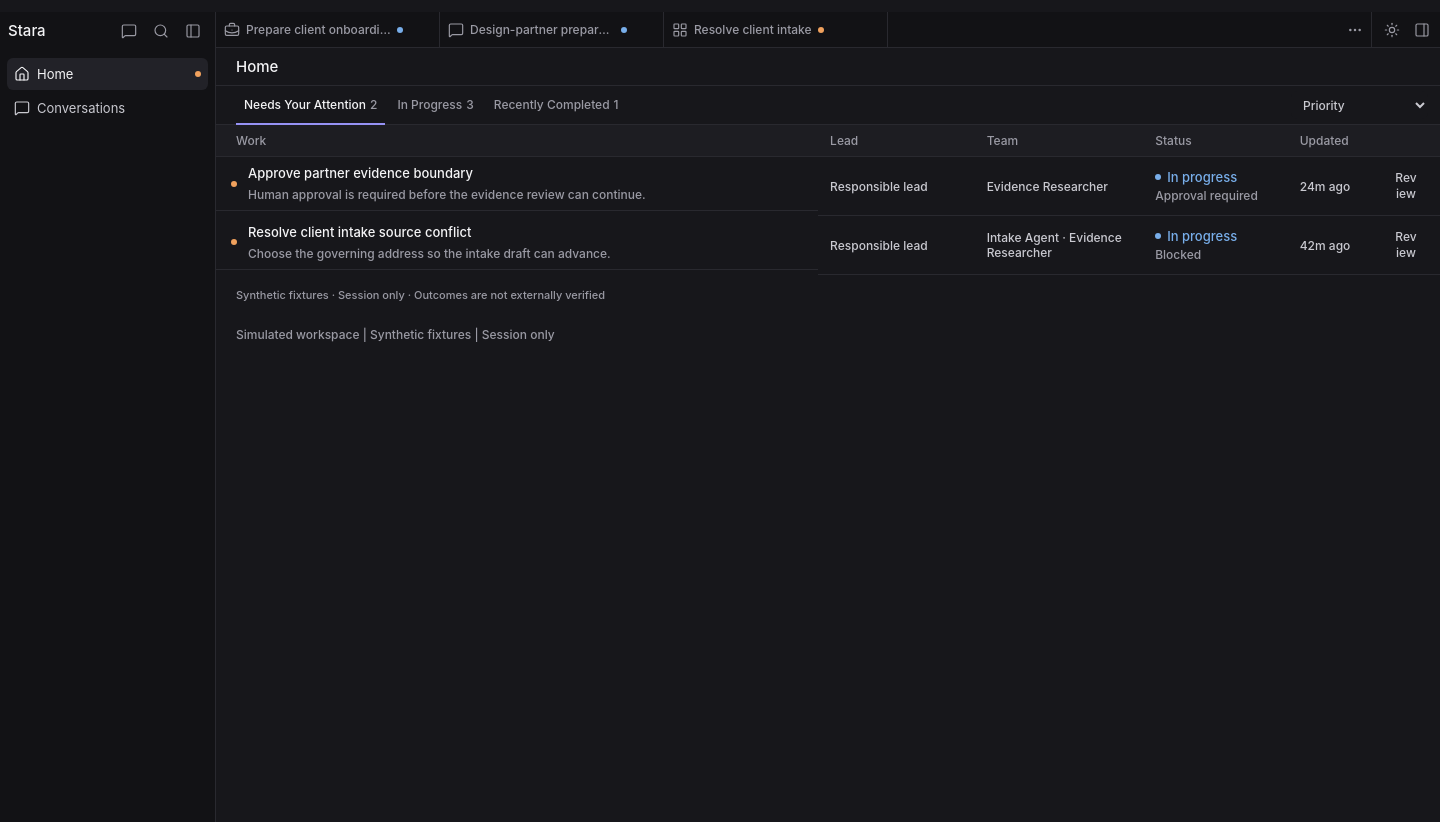
Test: STR-2 fixture-backed New Conversation › opens Conversations without creating a conversation
Click the button "Conversations" at (108, 108), box [7,92,208,124]
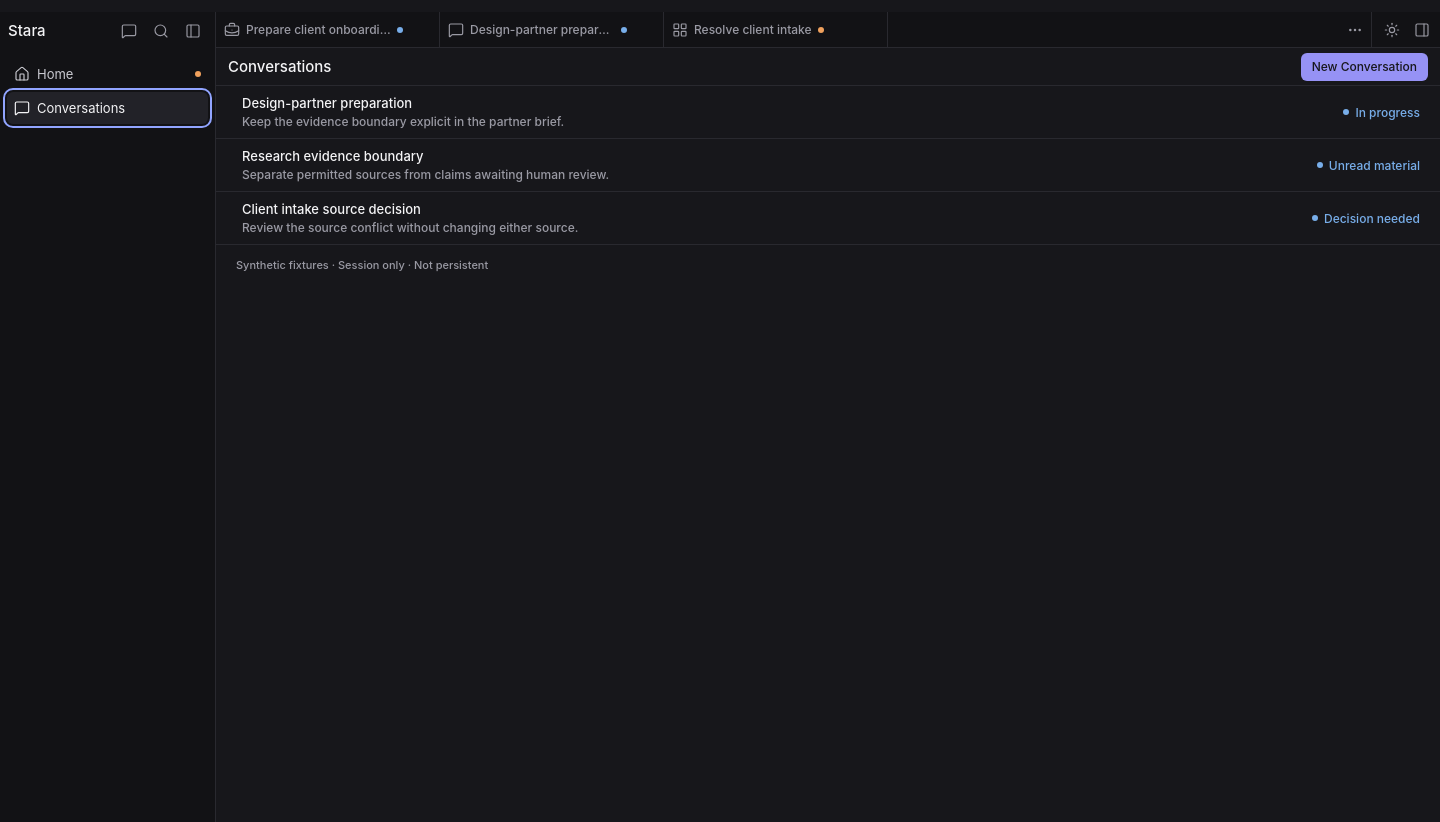
Now the heading "Conversations" is shown, box [228,56,332,76]
